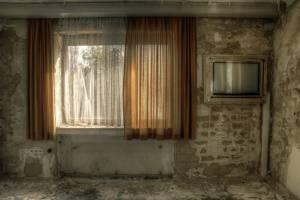window: (55, 32, 174, 128)
